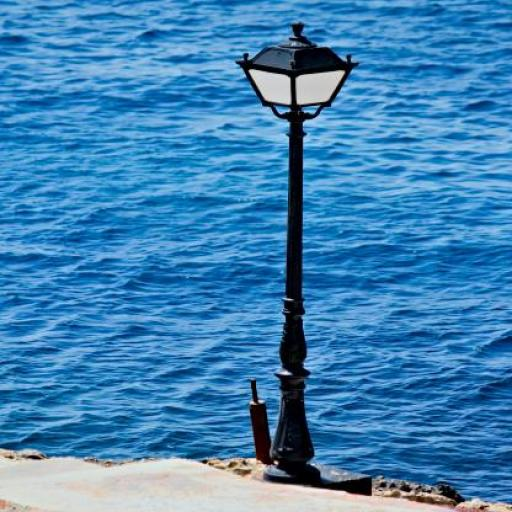street light: (235, 24, 361, 478)
